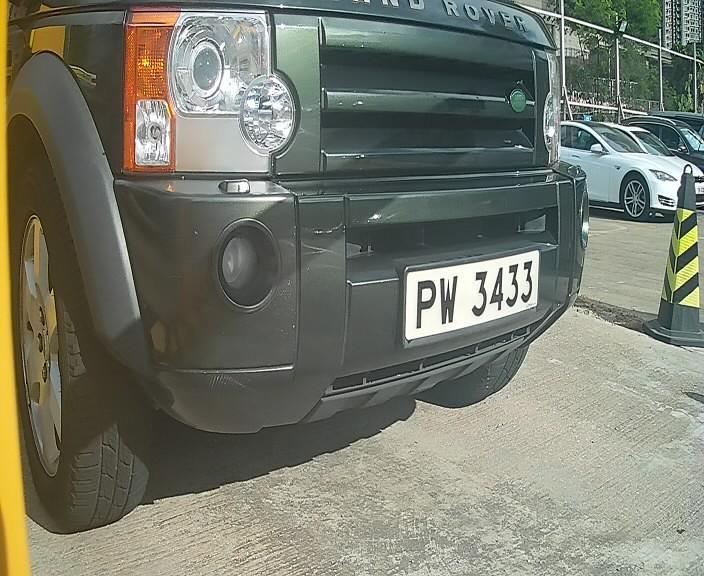Car: (45, 26, 642, 476)
License Plate: (397, 240, 547, 345)
